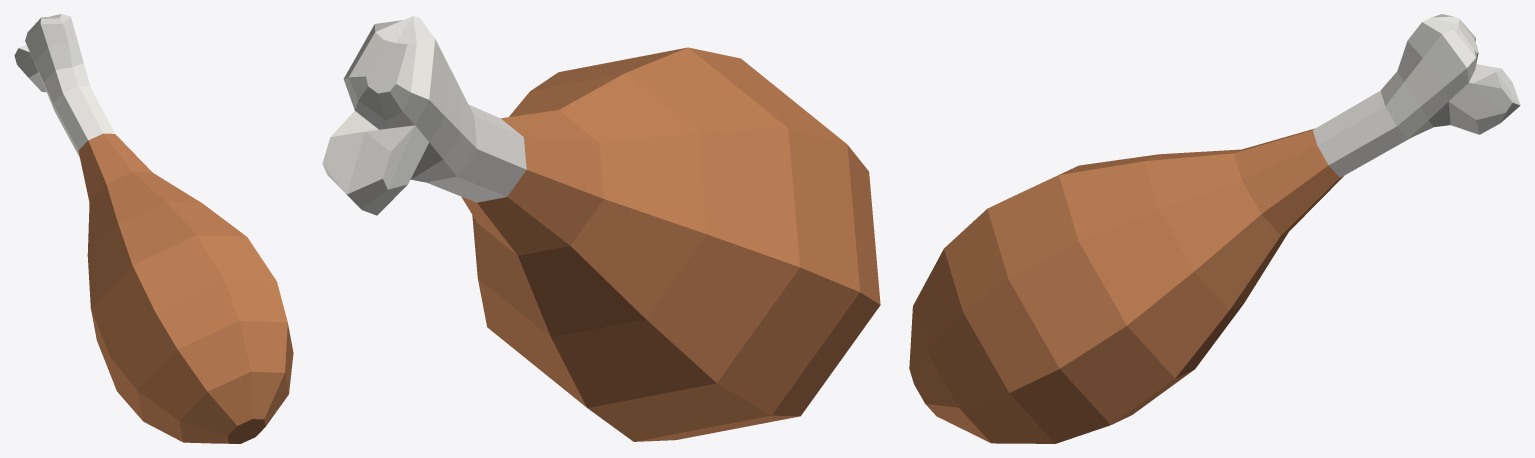
Rendered from turkeyleg.fbx.
3 renders of one model, left to right at view 1: azimuth 30°, elevation 25°; view 2: azimuth 150°, elevation 25°; view 3: azimuth 270°, elevation 25°, orthographic. The views are drawn at different scales.
Visible parts, largest first — view 1: Cylinder; view 2: Cylinder; view 3: Cylinder.
Part boxes in pixels (x1,y1,x2,y2): Cylinder: (14,14,293,443); Cylinder: (322,16,880,441); Cylinder: (909,14,1520,443).
Size of the model in its own units: 382 by 655 by 865.
